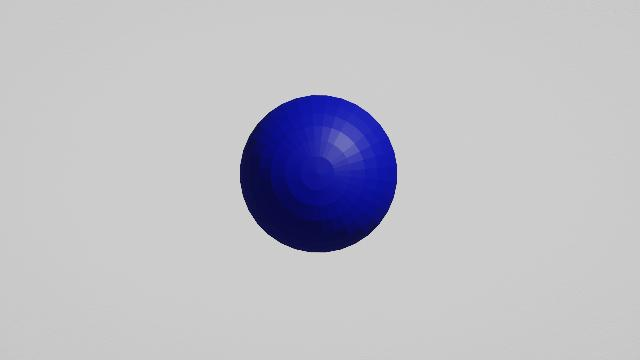Sphere: (232, 88, 406, 256)
